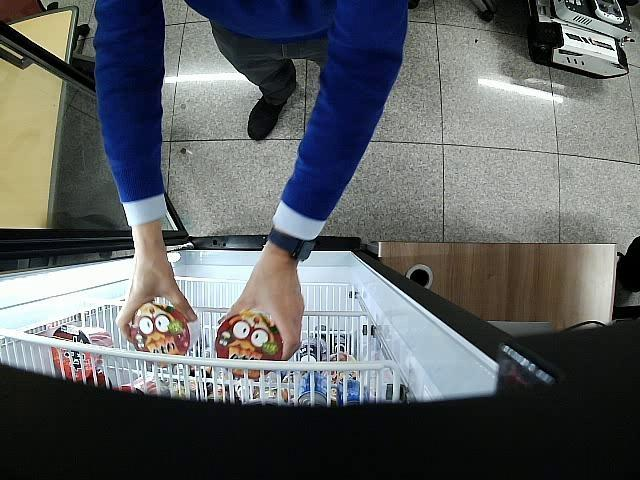06_nuguri_S: (215, 311, 282, 378), (129, 303, 202, 355)
